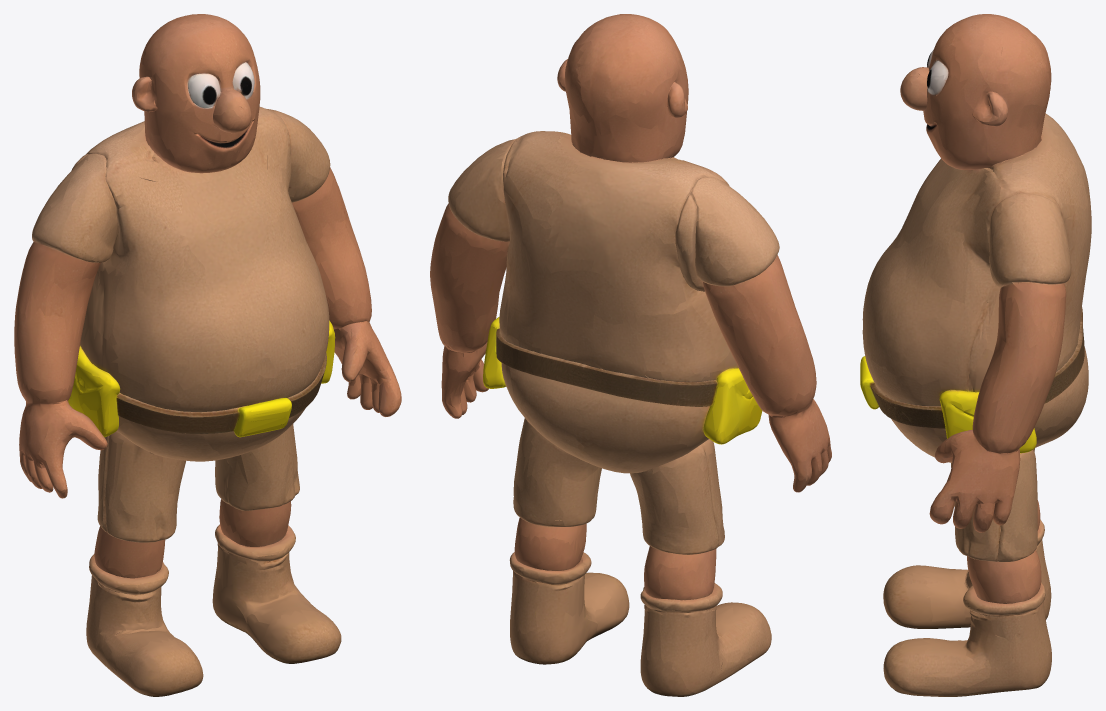
Rendered from A5-clay-tee.glb.
The picture shows the model from 3 angles, left to right: view 1: azimuth 30°, elevation 25°; view 2: azimuth 150°, elevation 25°; view 3: azimuth 270°, elevation 25°; orthographic projection. The views are drawn at different scales.
Visible parts, largest first — view 1: Mesh_0; view 2: Mesh_0; view 3: Mesh_0.
Boxes of the visible parts, x1,y1,x2,y2 form: Mesh_0: (14,14,401,696); Mesh_0: (430,14,831,696); Mesh_0: (860,14,1091,696).
Bounding box in the file's own units: 1.14 × 1.9 × 0.6294.
Materials: 1 (1 with a texture image).
